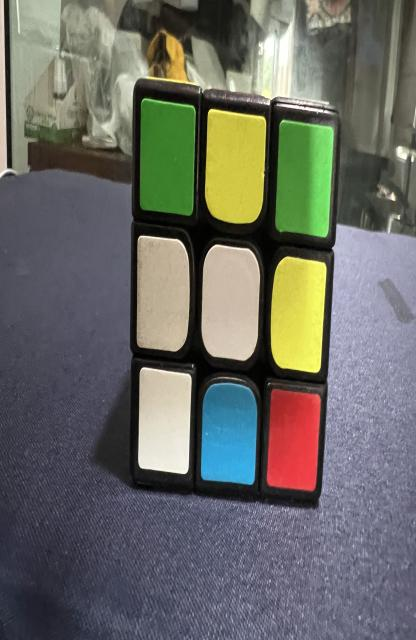Blue: (201, 382, 258, 485)
Green: (275, 120, 334, 238), (140, 98, 196, 217)
Red: (266, 388, 321, 492)
White: (202, 243, 260, 362), (136, 235, 190, 352), (138, 367, 192, 475)
Yellow: (205, 108, 266, 223), (271, 257, 327, 373)
